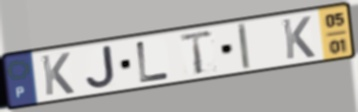I: (236, 21, 253, 72)
J: (84, 44, 117, 90)
K: (280, 14, 318, 61), (39, 50, 77, 97)
L: (134, 39, 172, 85)
T: (179, 28, 216, 77)
